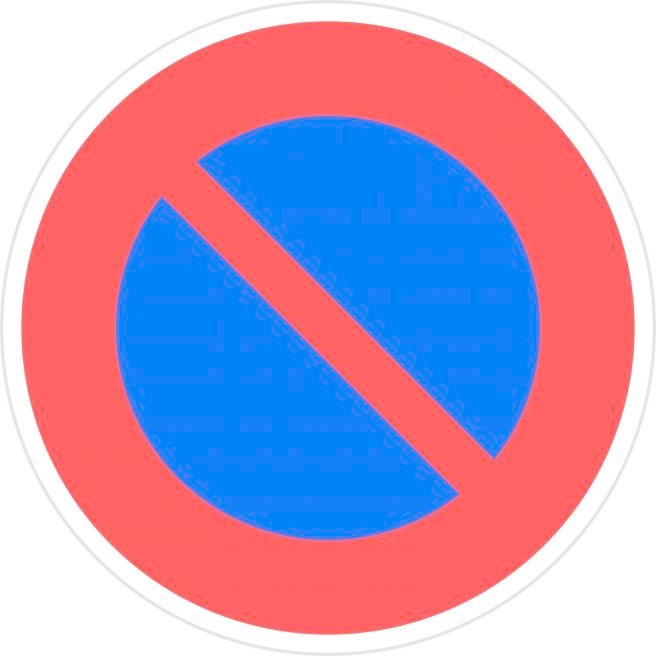Prohibition_sign: (10, 2, 656, 649)
